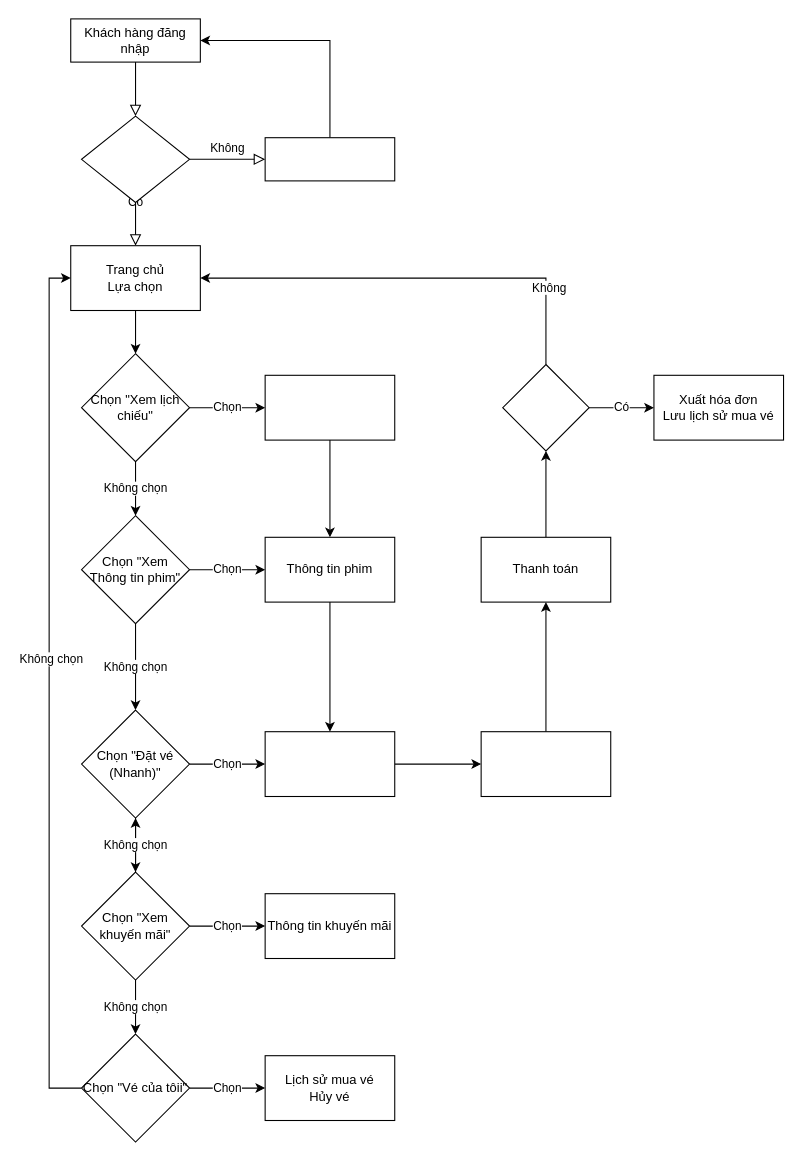
Image size: 802x1161. Some labels were removed from this diagram. Here are the shapes that lost their labels. From the top down, the centre of each, then its label:
At (x=135, y=158): "Có tài khoản?".
At (x=329, y=159): "Đăng ký".
At (x=329, y=407): "Lịch chiếu".
At (x=545, y=407): "Thành công?".
At (x=329, y=763): "Đặt vé".
At (x=545, y=763): "Chọn ghế".
